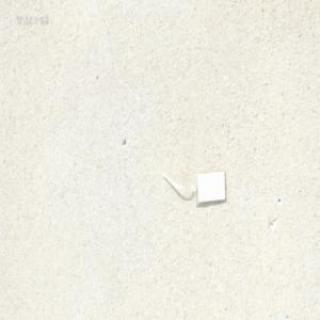LuggageTagtrack_idkeyframe: (161, 167, 225, 205)
